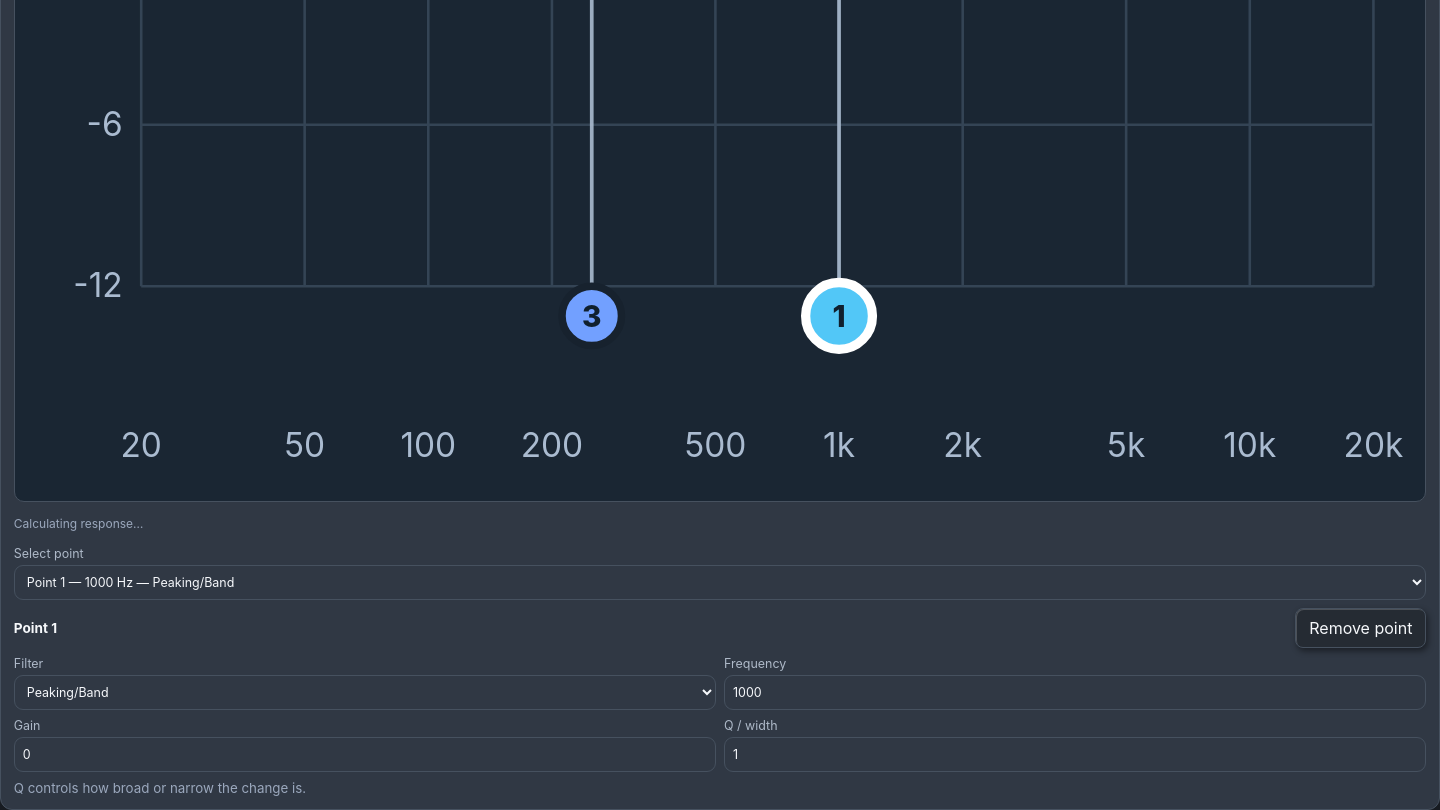
Advanced EQ editor › selects an existing point outside the graph without changing parameters
This screenshot has width=1440, height=810.
(page scrolled)
Select "Point 3 — 250 Hz — All pass" in the dropdown named "EQ point" at (720, 583), box [14,565,1426,600]
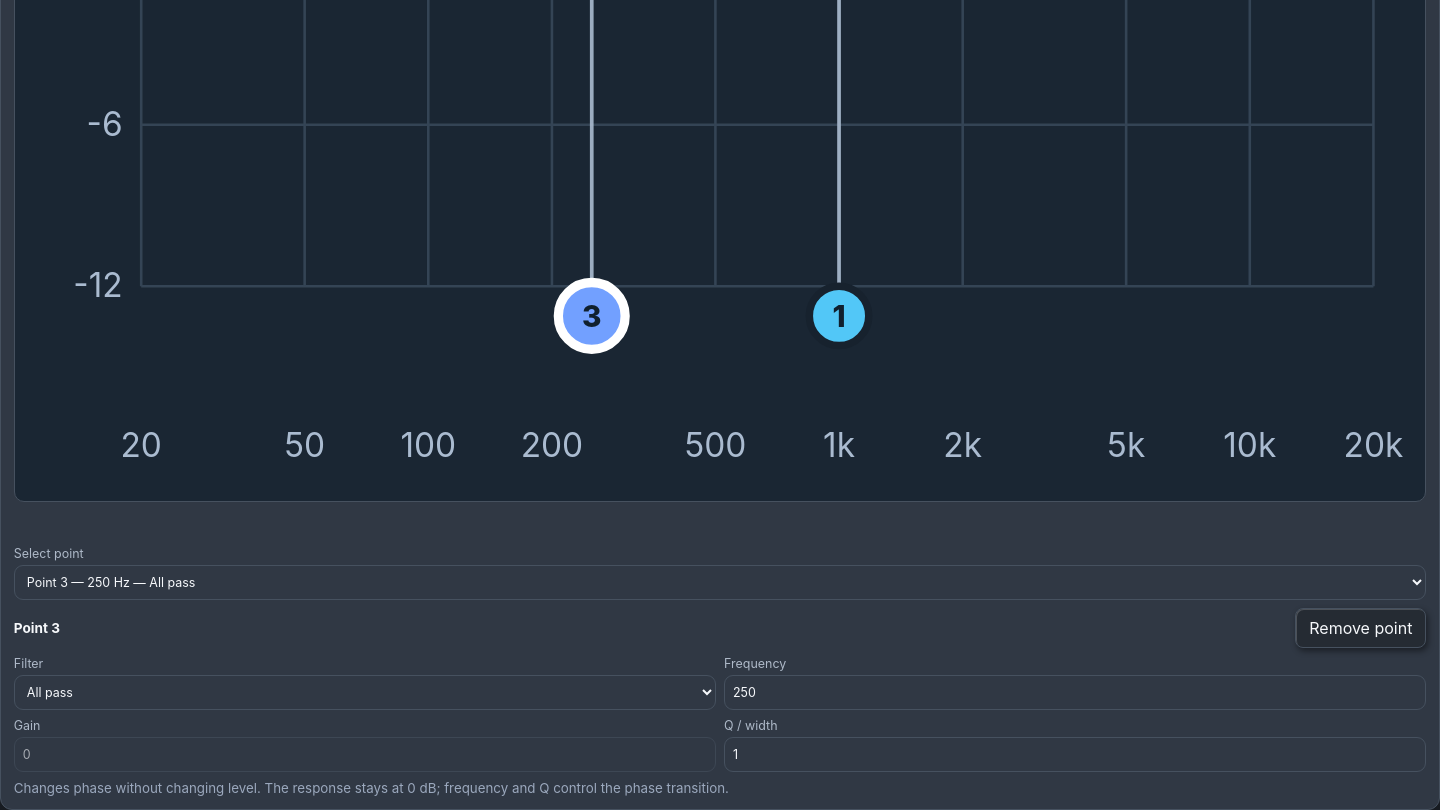
Now the number field named "EQ frequency Hz" holds "250", box [724,675,1426,710]
Now the dropdown named "EQ filter type" shows "All pass", box [14,675,716,710]
